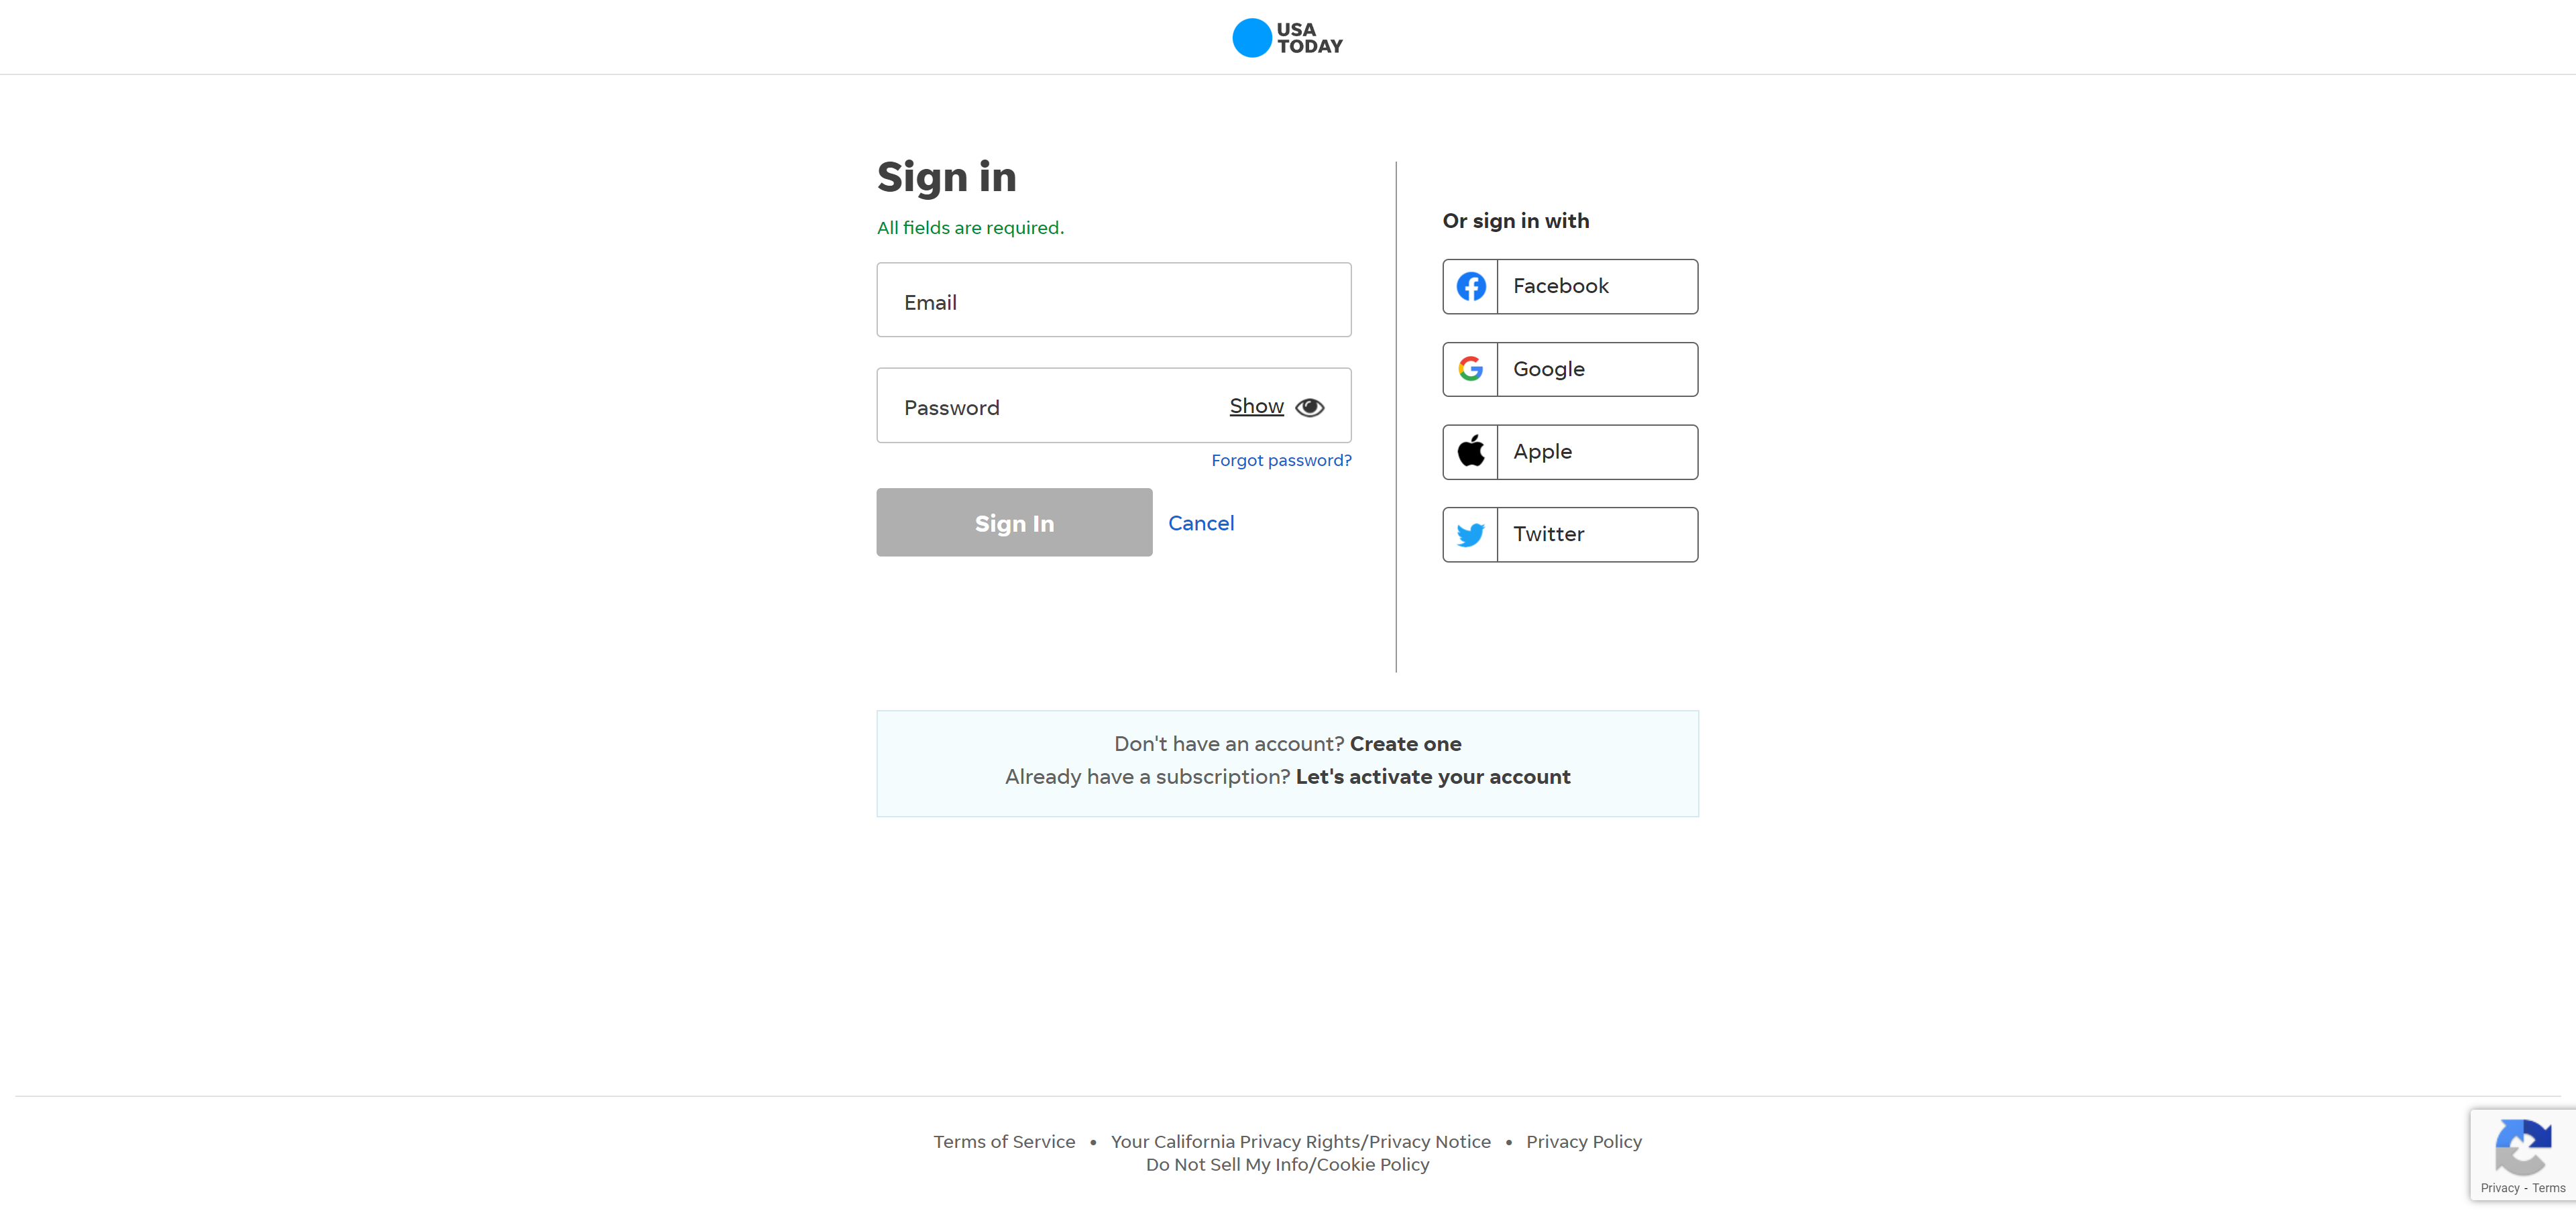login_button: (877, 488, 1153, 557)
login_form: (866, 251, 1365, 565)
